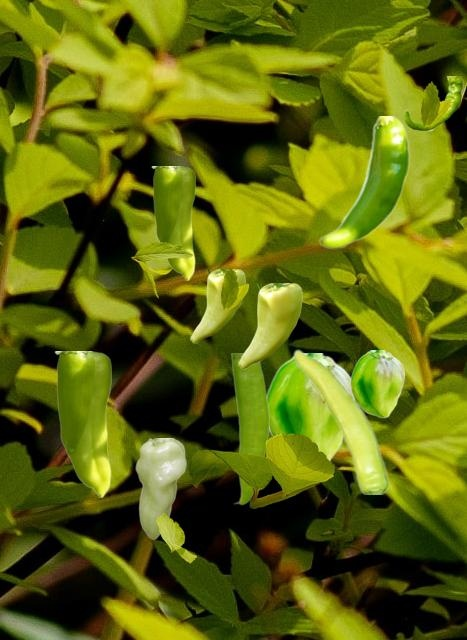green_chili: (293, 348, 387, 493), (318, 116, 409, 248), (267, 353, 349, 461), (54, 351, 110, 496), (230, 353, 268, 504), (238, 283, 301, 368), (135, 438, 185, 538), (151, 166, 194, 279), (190, 269, 244, 342), (350, 350, 404, 417), (404, 76, 462, 130)
